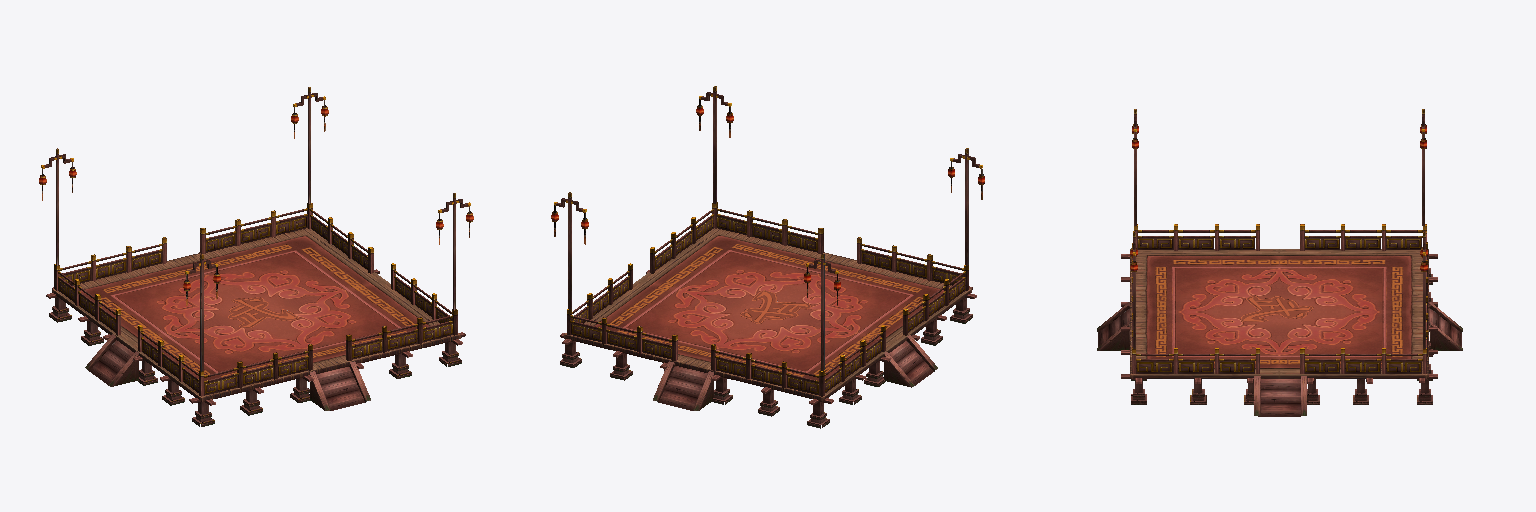
3 renders of one model, left to right at view 1: azimuth 30°, elevation 25°; view 2: azimuth 150°, elevation 25°; view 3: azimuth 270°, elevation 25°, orthographic.
Parts seen in each view (by area): view 1: biwutai; view 2: biwutai; view 3: biwutai.
Boxes of the visible parts, <box> form: biwutai: <box>39,87,473,426</box>; biwutai: <box>551,86,984,428</box>; biwutai: <box>1097,109,1462,416</box>.
Bounding box in the file's own units: 297 × 153 × 299.
Materials: 1 (1 with a texture image).